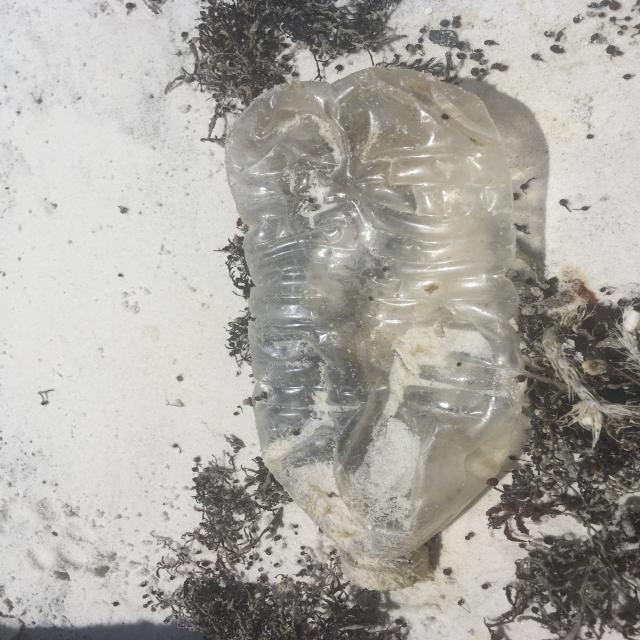litter: (227, 65, 534, 592)
